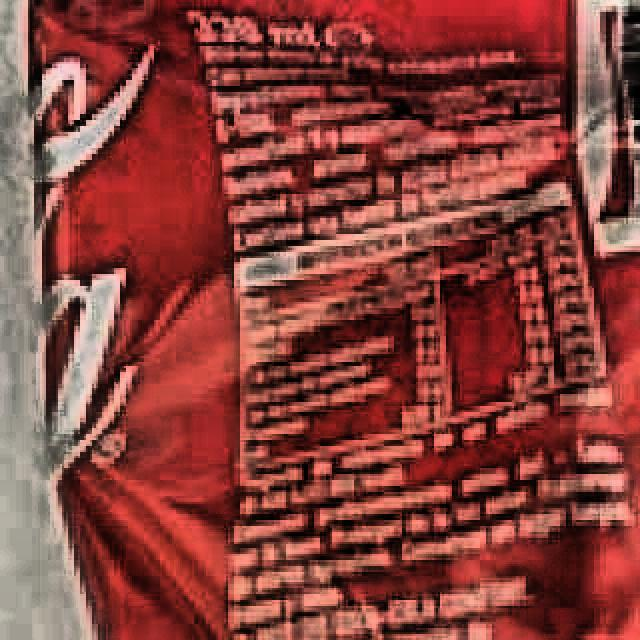metal: (24, 0, 640, 640)
